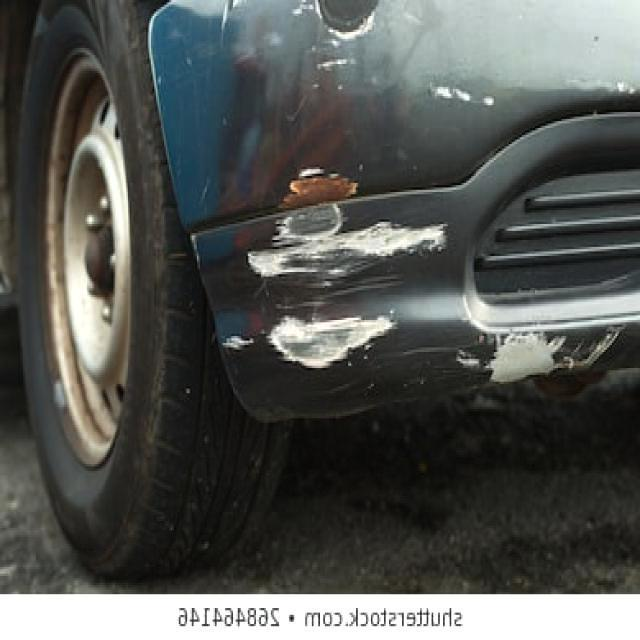minor: (437, 351, 489, 383)
moderate: (249, 210, 446, 281), (489, 330, 618, 390), (267, 314, 399, 370), (420, 83, 601, 119), (221, 335, 261, 356)
